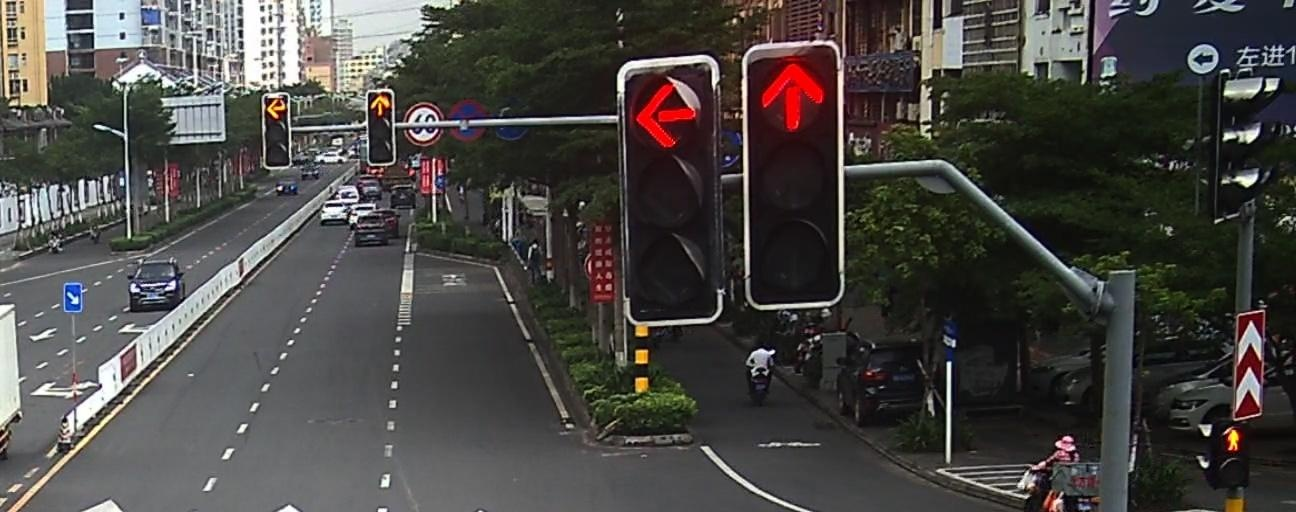redleft: (630, 80, 700, 152), (265, 96, 289, 122)
redpeople: (1220, 425, 1246, 453)
redstraight: (756, 60, 829, 133), (368, 93, 393, 118)
